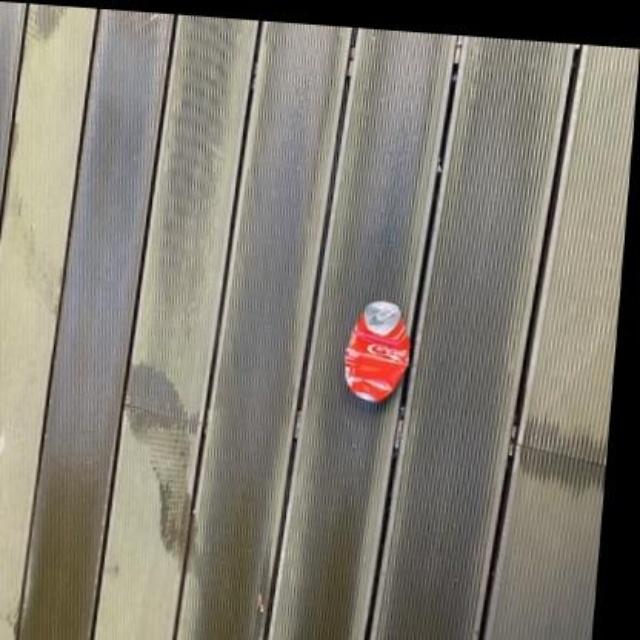trash: (345, 302, 408, 402)
